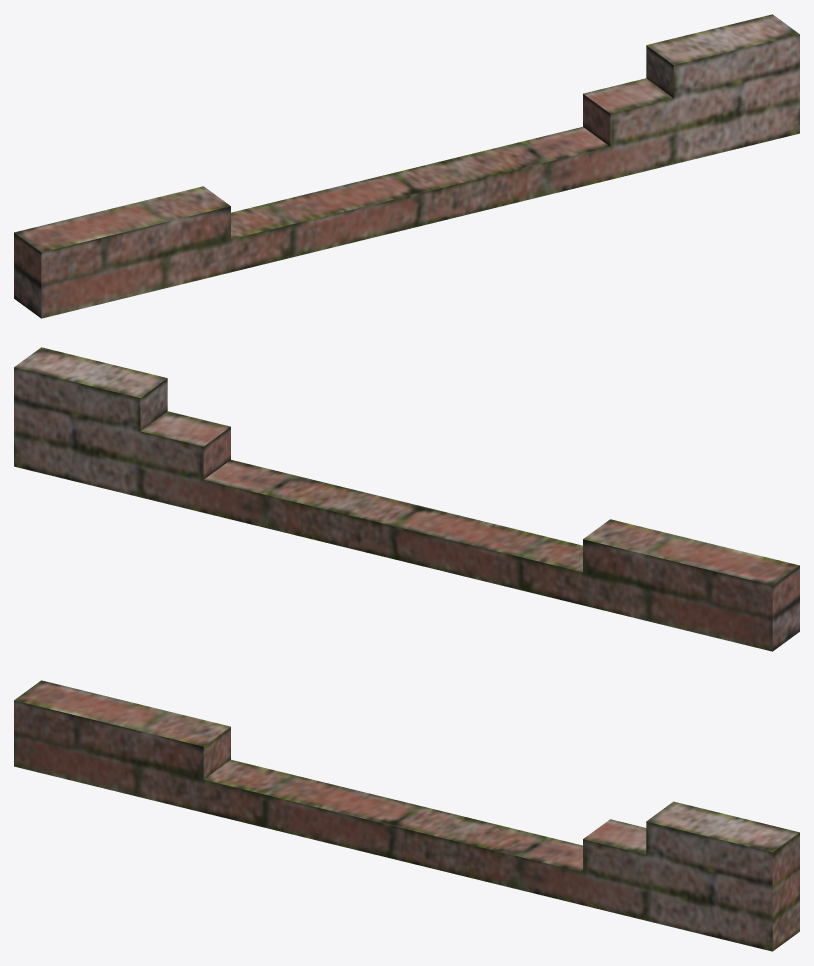
File: Crack_2.fbx
3 renders of one model, top to bottom at view 1: azimuth 30°, elevation 25°; view 2: azimuth 150°, elevation 25°; view 3: azimuth 330°, elevation 25°, orthographic.
Visible parts, largest first — view 1: Cube.001; view 2: Cube.001; view 3: Cube.001.
Part boxes in pixels (bbox=[...]): Cube.001: bbox=[14, 14, 799, 318]; Cube.001: bbox=[14, 347, 799, 651]; Cube.001: bbox=[14, 680, 799, 951].
Bounding box in the file's own units: 240 × 30 × 15.
1 material, 1 textured.
